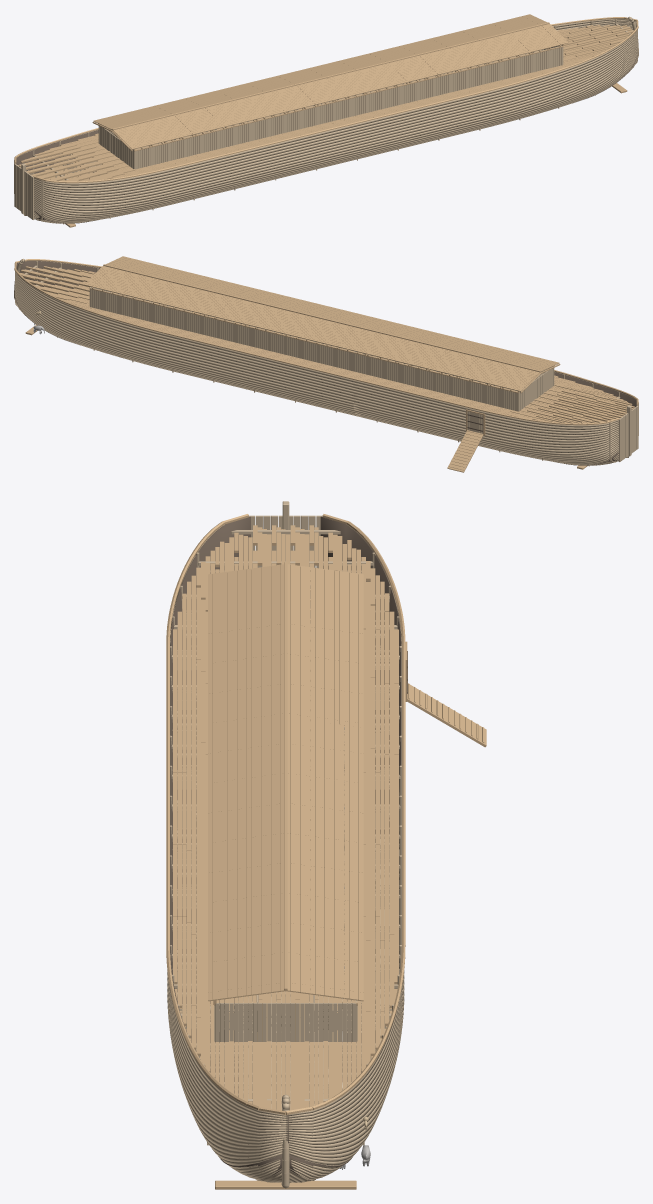
The model's file is noah.glb.
3 views of the same model, one above another, from view 1: azimuth 30°, elevation 25°; view 2: azimuth 150°, elevation 25°; view 3: azimuth 270°, elevation 25° (orthographic). The views are drawn at different scales.
Parts seen in each view (by area): view 1: roof_006_roof_north, roof_003_house_wall, decks_002_deck, planking_011_strake4_far, planking_014_strake5_far, planking_008_strake3_far, roof_008_roof_south, planking_005_strake2_far, planking_019_rail, roof_007_roof_south, roof_009_ridge, roof_004_house_ends (+3 smaller); view 2: roof_008_roof_south, decks_002_deck, roof_002_house_wall, planking_013_strake4_near_whole, planking_016_strake5_near_whole, roof_006_roof_north, planking_010_strake3_near_whole, roof_007_roof_south, planking_019_rail, planking_007_strake2_near_whole, planking_009_strake3_near_cut, pitch_003_pitch_in (+9 smaller); view 3: decks_002_deck, roof_006_roof_north, roof_008_roof_south, planking_019_rail, roof_007_roof_south, pitch_003_pitch_in, roof_004_house_ends, planking_013_strake4_near_whole, planking_011_strake4_far, planking_014_strake5_far, planking_016_strake5_near_whole, planking_008_strake3_far (+6 smaller).
Boxes of the visible parts, bbox=[...] form: roof_006_roof_north: bbox=[112, 24, 568, 151]; roof_003_house_wall: bbox=[134, 45, 563, 169]; decks_002_deck: bbox=[18, 25, 633, 181]; planking_011_strake4_far: bbox=[34, 34, 637, 203]; planking_014_strake5_far: bbox=[34, 29, 637, 192]; planking_008_strake3_far: bbox=[34, 40, 637, 213]; roof_008_roof_south: bbox=[92, 14, 546, 131]; planking_005_strake2_far: bbox=[34, 46, 637, 221]; planking_019_rail: bbox=[14, 17, 638, 219]; roof_007_roof_south: bbox=[93, 82, 267, 130]; roof_009_ridge: bbox=[112, 22, 549, 130]; roof_004_house_ends: bbox=[98, 45, 563, 168]; roof_008_roof_south: bbox=[84, 266, 540, 393]; decks_002_deck: bbox=[19, 266, 634, 423]; roof_002_house_wall: bbox=[89, 287, 518, 411]; planking_013_strake4_near_whole: bbox=[15, 276, 617, 445]; planking_016_strake5_near_whole: bbox=[15, 271, 617, 434]; roof_006_roof_north: bbox=[106, 256, 560, 373]; planking_010_strake3_near_whole: bbox=[15, 282, 612, 455]; roof_007_roof_south: bbox=[364, 335, 540, 392]; planking_019_rail: bbox=[14, 259, 638, 461]; planking_007_strake2_near_whole: bbox=[15, 288, 618, 462]; planking_009_strake3_near_cut: bbox=[353, 402, 618, 455]; pitch_003_pitch_in: bbox=[16, 261, 636, 406]; decks_002_deck: bbox=[173, 525, 398, 1110]; roof_006_roof_north: bbox=[208, 564, 285, 1001]; roof_008_roof_south: bbox=[286, 564, 363, 1001]; planking_019_rail: bbox=[166, 514, 405, 1114]; roof_007_roof_south: bbox=[287, 564, 363, 727]; pitch_003_pitch_in: bbox=[170, 516, 401, 1143]; roof_004_house_ends: bbox=[215, 585, 356, 1041]; planking_013_strake4_near_whole: bbox=[286, 979, 404, 1133]; planking_011_strake4_far: bbox=[167, 977, 285, 1133]; planking_014_strake5_far: bbox=[167, 524, 285, 1122]; planking_016_strake5_near_whole: bbox=[286, 525, 404, 1122]; planking_008_strake3_far: bbox=[167, 999, 285, 1144].
Size of the model in its own units: 302 by 33.7 by 68.01.
